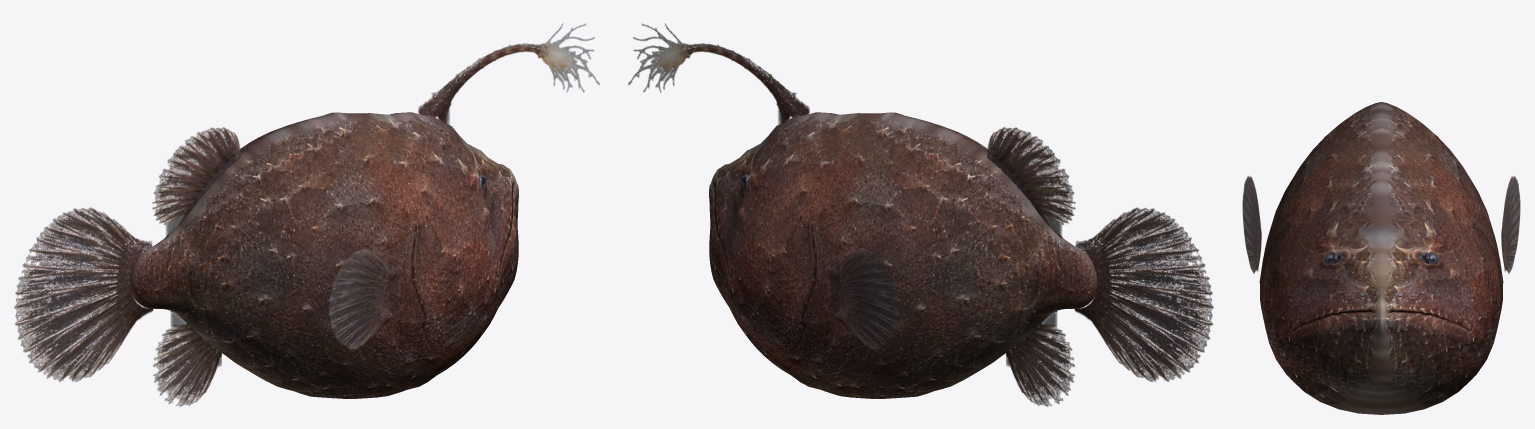
File: chouchinankou.glb
3 renders of one model, left to right at view 1: azimuth 30°, elevation 25°; view 2: azimuth 150°, elevation 25°; view 3: azimuth 270°, elevation 25°, orthographic. The views are drawn at different scales.
Visible parts, largest first — view 1: chouchinankou; view 2: chouchinankou; view 3: chouchinankou.
Boxes of the visible parts, x1,y1,x2,y2 form: chouchinankou: [14, 23, 599, 406]; chouchinankou: [628, 23, 1213, 406]; chouchinankou: [1242, 102, 1520, 414].
Size of the model in its own units: 0.401 by 0.203 by 0.1726.
Materials: 1 (1 with a texture image).
